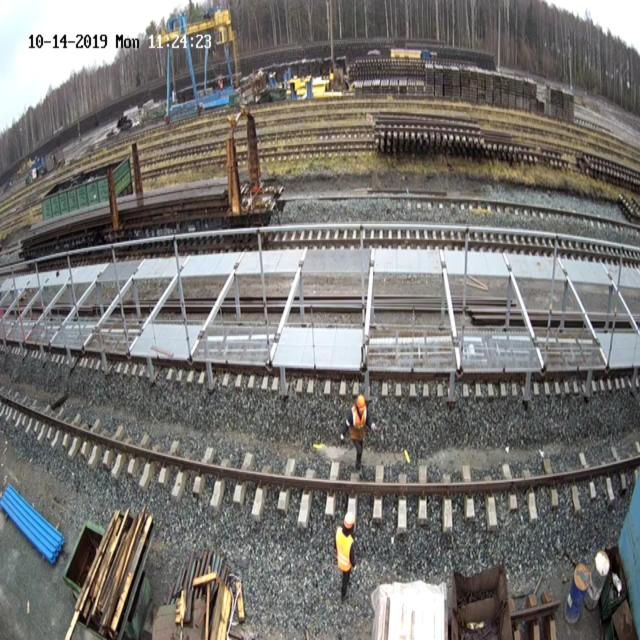Helmet: (356, 394, 366, 411), (344, 511, 354, 528)
Person: (340, 394, 376, 471), (335, 511, 355, 602)
